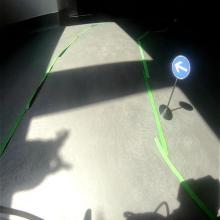left: (172, 54, 190, 81)
